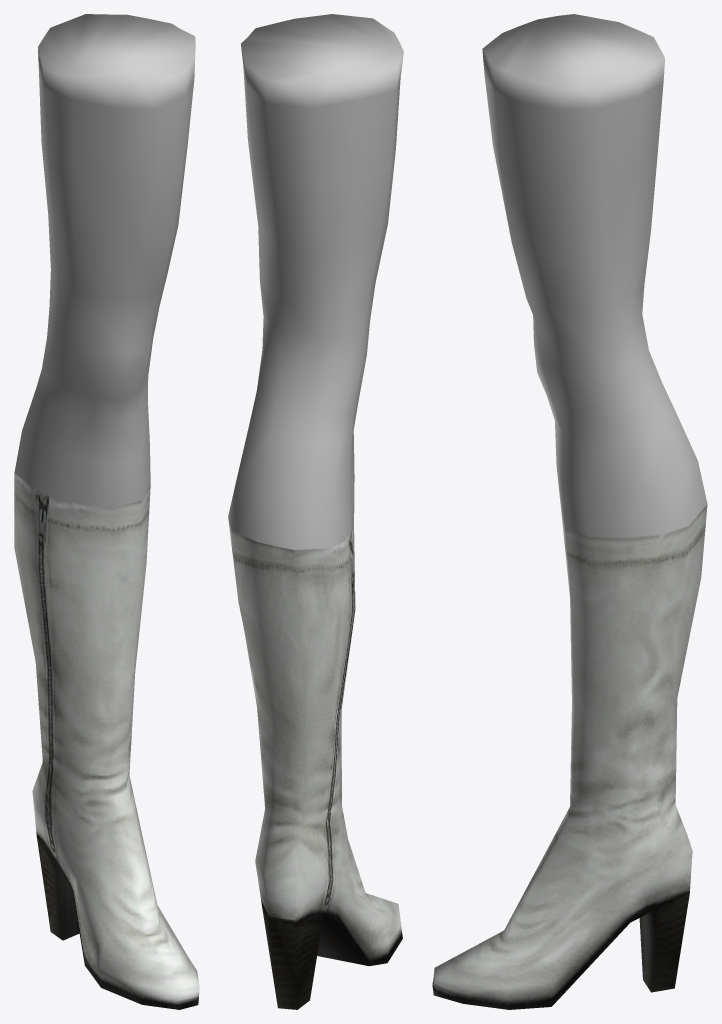
Rendered from Leg.obj.
3 views of the same model, side by side, from view 1: azimuth 30°, elevation 25°; view 2: azimuth 150°, elevation 25°; view 3: azimuth 270°, elevation 25° (orthographic). The views are drawn at different scales.
Visible parts, largest first — view 1: Body_Mesh.009, Boot_Mesh.010; view 2: Body_Mesh.009, Boot_Mesh.010; view 3: Body_Mesh.009, Boot_Mesh.010.
Part boxes in pixels (<box>): Body_Mesh.009: <box>14,14,195,507</box>; Boot_Mesh.010: <box>14,473,199,1009</box>; Body_Mesh.009: <box>228,14,403,549</box>; Boot_Mesh.010: <box>228,519,402,1009</box>; Body_Mesh.009: <box>482,14,707,537</box>; Boot_Mesh.010: <box>432,504,707,1009</box>.
Bounding box in the file's own units: 14.08 × 84.12 × 22.31.
